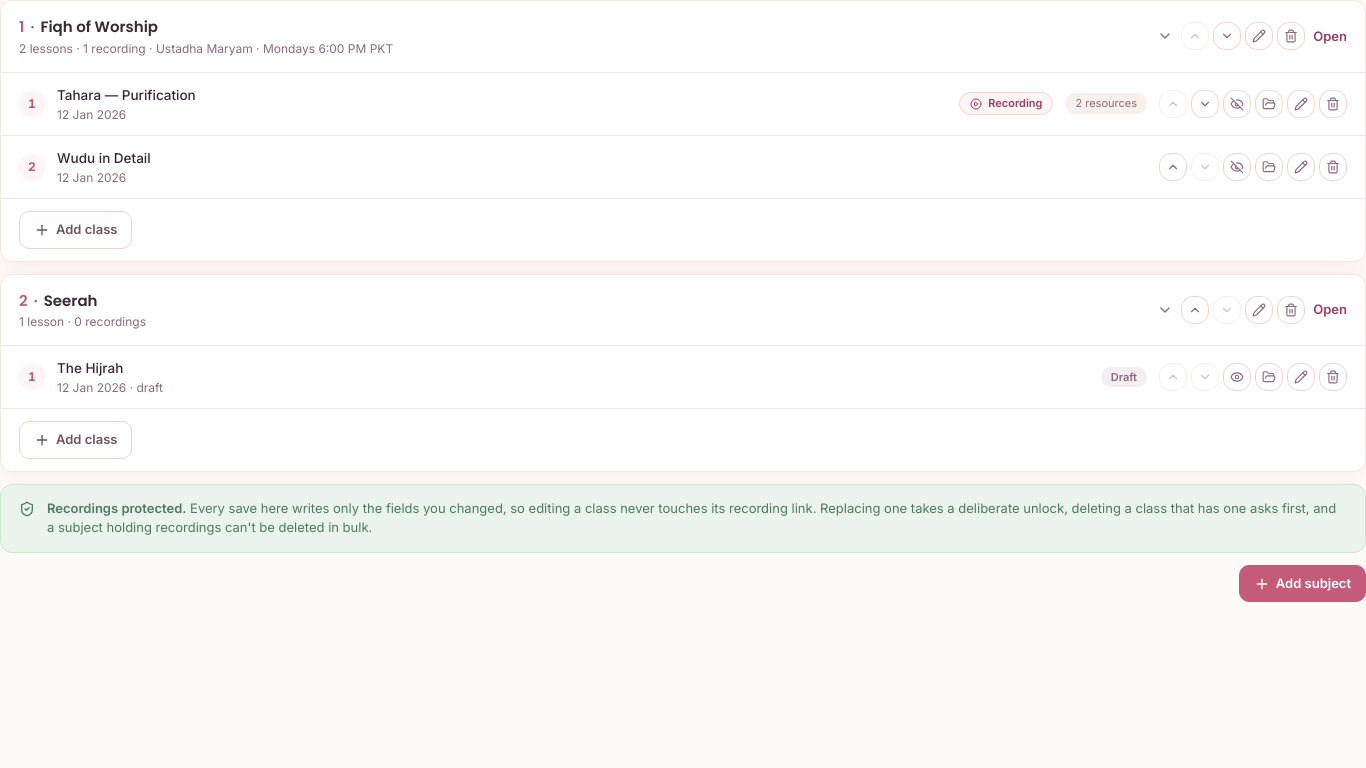
Test: CourseStructureEditor › names the recording and warns it is lost before deleting that lesson
Click the button named "Delete Tahara — Purification" at [1333, 104], box [1319,90,1347,118]
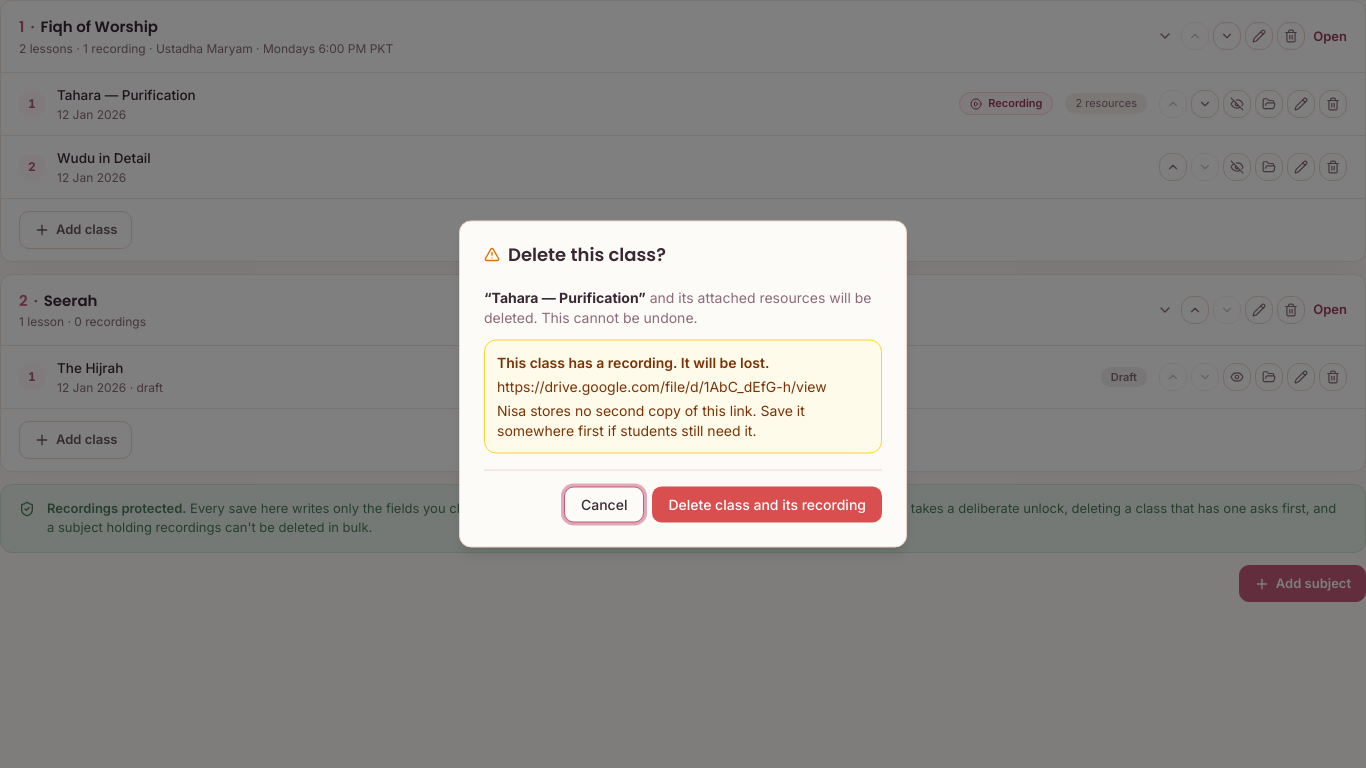
Check: the text "This class has a recording. It will be lost." is shown, box [497,354,769,370]
Check: the text "https://drive.google.com/file/d/1AbC_dEfG-h/view" is shown, box [497,376,869,396]
Check: the button "Delete class and its recording" is shown, box [652,486,882,522]
